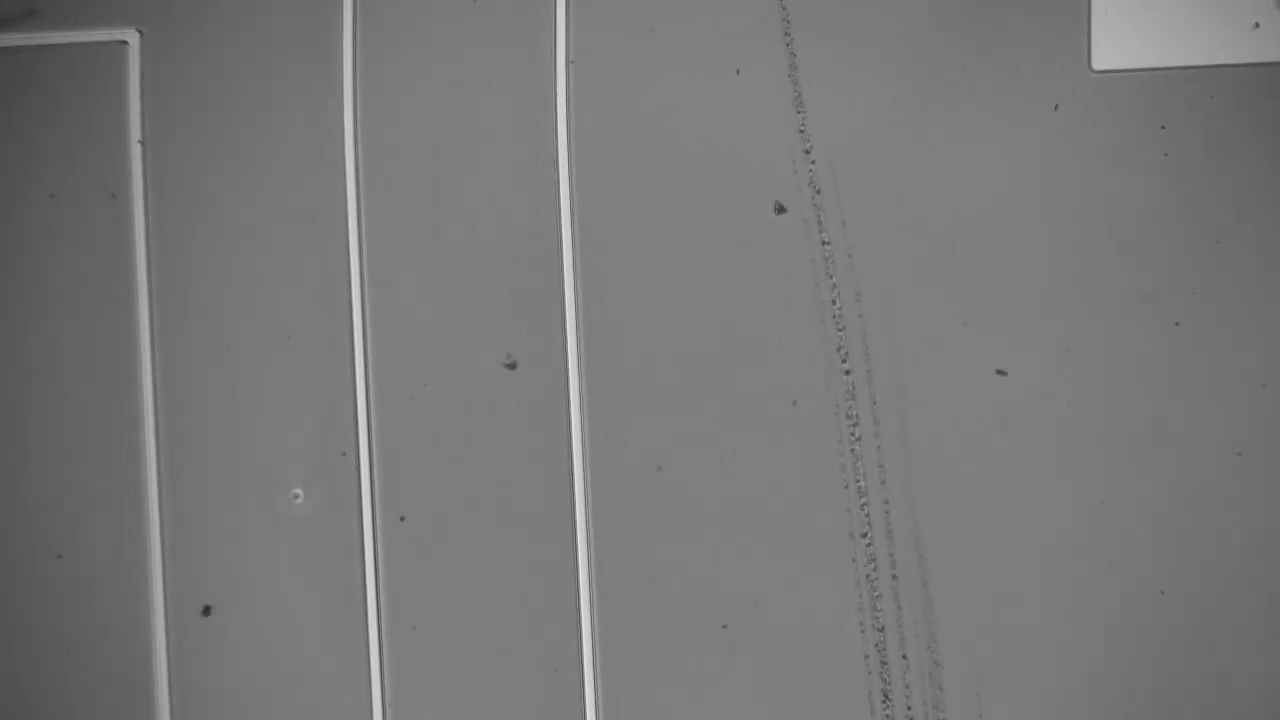scratch: (779, 6, 971, 717)
